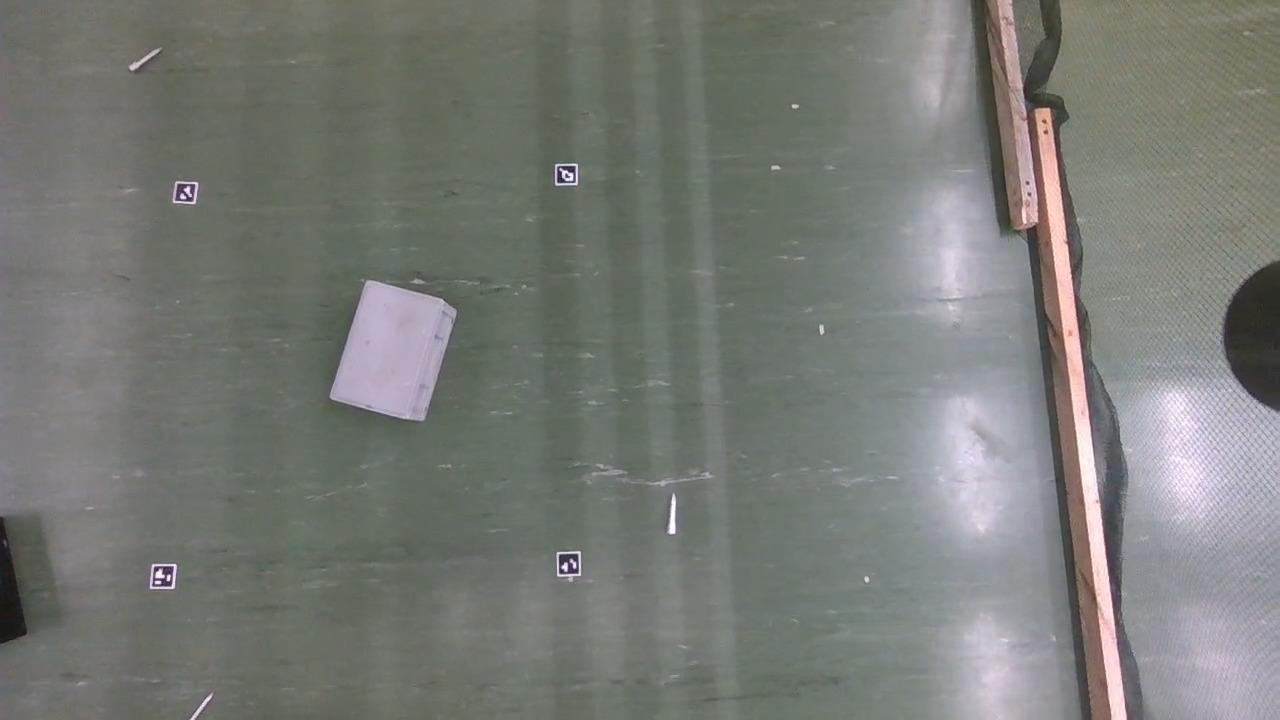probes: (130, 48, 161, 73), (192, 694, 214, 720), (669, 498, 678, 537)
rako: (329, 281, 457, 424)
